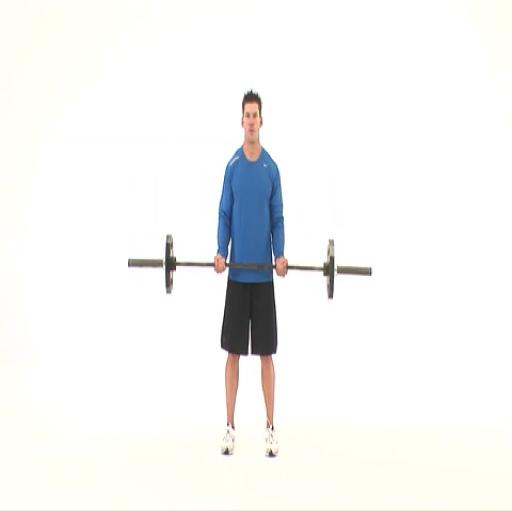exercise: (212, 88, 290, 460)
